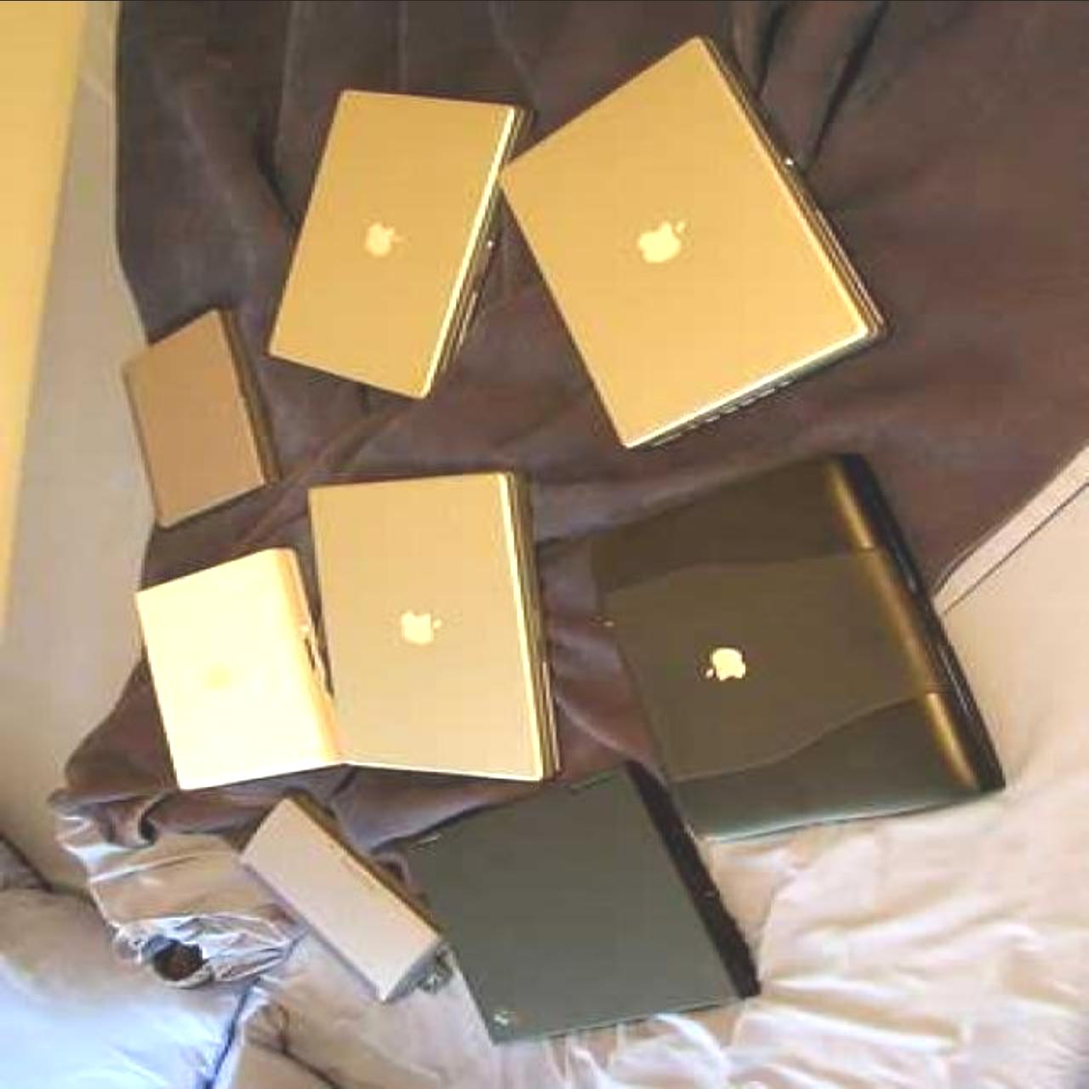laptop: (590, 505, 1012, 801), (550, 80, 858, 424), (404, 818, 719, 1060), (312, 480, 545, 779), (279, 100, 490, 363), (115, 339, 253, 516)
